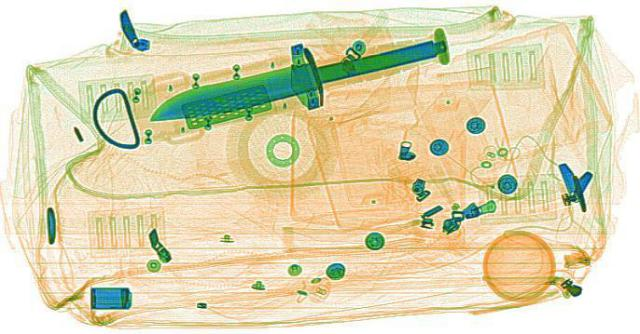Knife: (115, 7, 488, 146)
